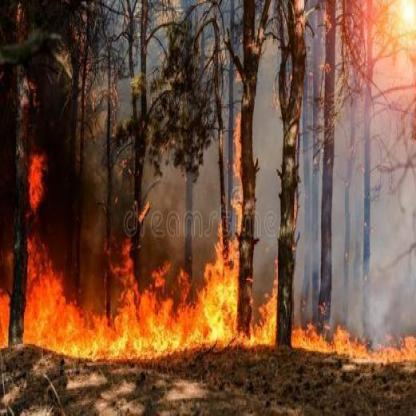fire: (6, 231, 412, 361), (228, 90, 247, 232), (26, 151, 49, 216), (133, 196, 154, 221)
other: (388, 0, 414, 39)
